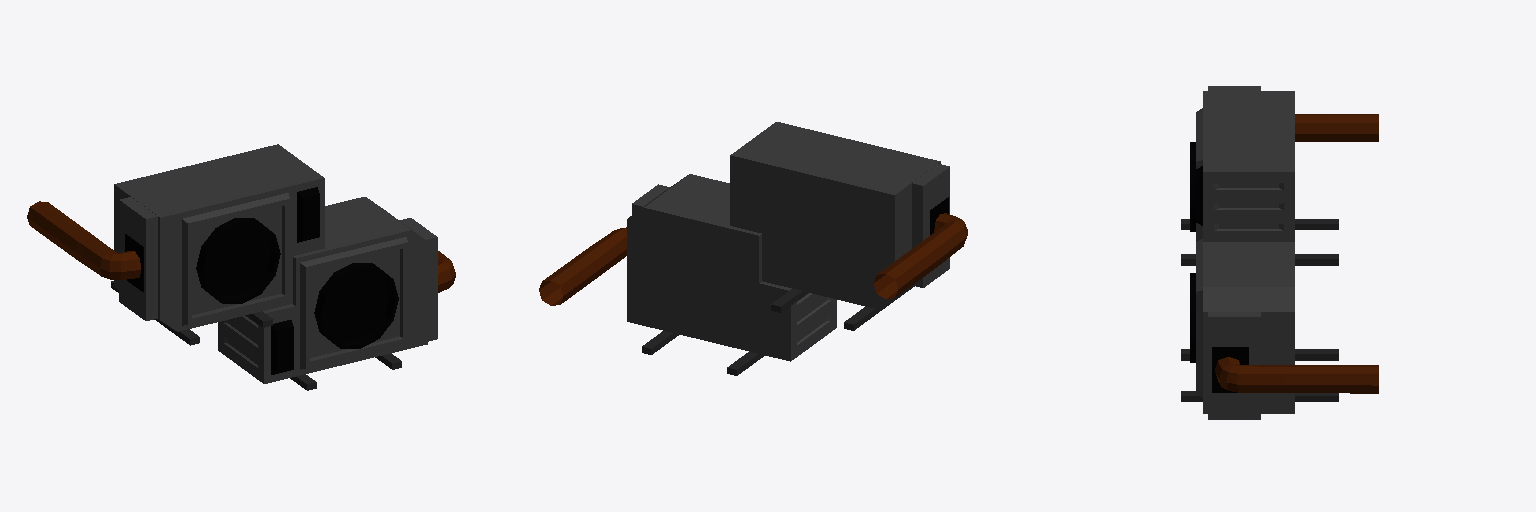
File: AC_Side.obj
3 views of the same model, side by side, from view 1: azimuth 30°, elevation 25°; view 2: azimuth 150°, elevation 25°; view 3: azimuth 270°, elevation 25° (orthographic).
Parts seen in each view (by area): view 1: AC_Side_Cube.005; view 2: AC_Side_Cube.005; view 3: AC_Side_Cube.005.
Boxes of the visible parts, x1=… form: AC_Side_Cube.005: x1=27, y1=144, x2=455, y2=390; AC_Side_Cube.005: x1=539, y1=122, x2=967, y2=375; AC_Side_Cube.005: x1=1181, y1=86, x2=1378, y2=419.
Size of the model in its own units: 1.62 by 0.8506 by 0.7709.